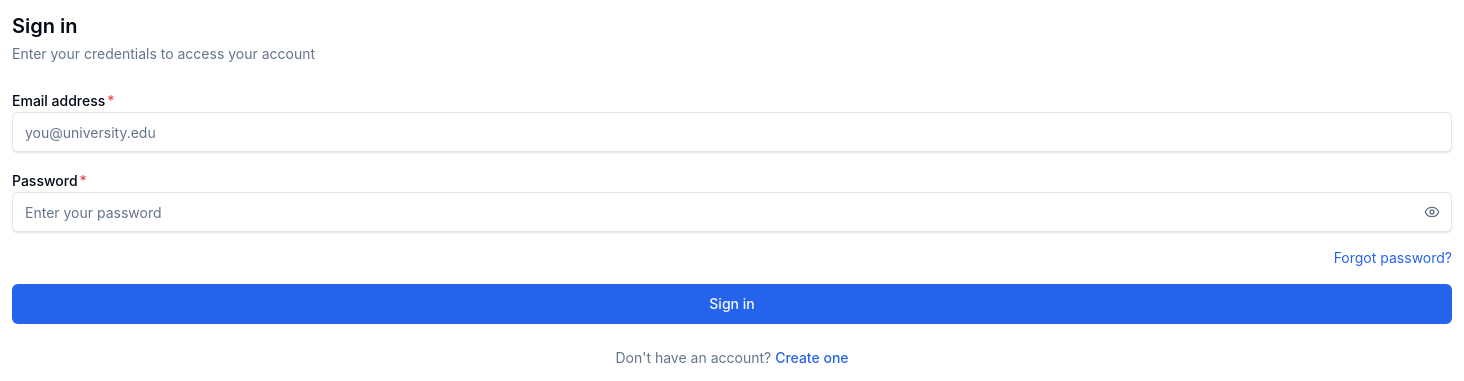
Scenario: LoginPage › disables the submit button and shows a spinner while the request is in flight
This screenshot has width=1464, height=381.
In the field labelled "Email address*": (732, 132) [12, 112, 1452, 152], type "student@university.edu"
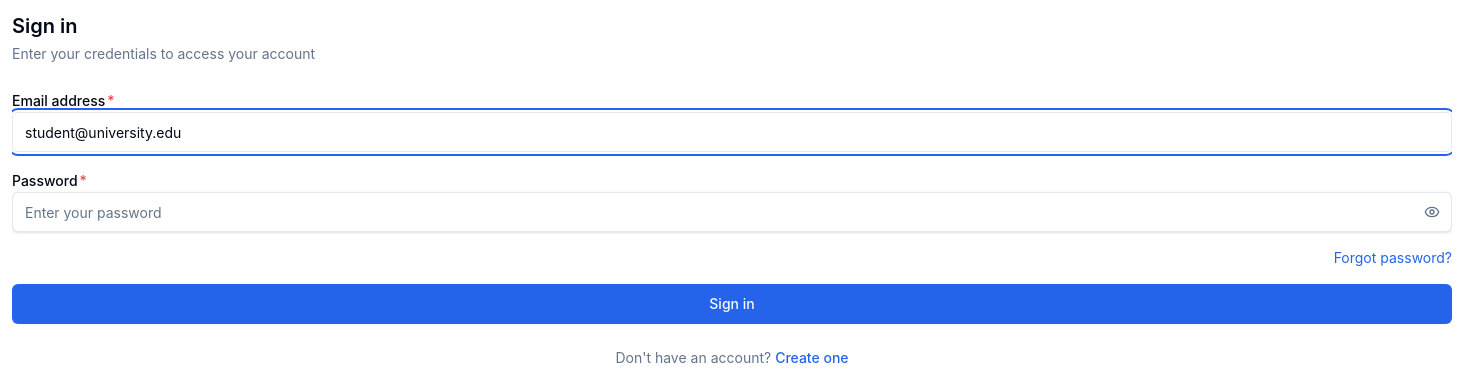
In the password field labelled "Password*": (732, 212) [12, 192, 1452, 232], type "secret123"
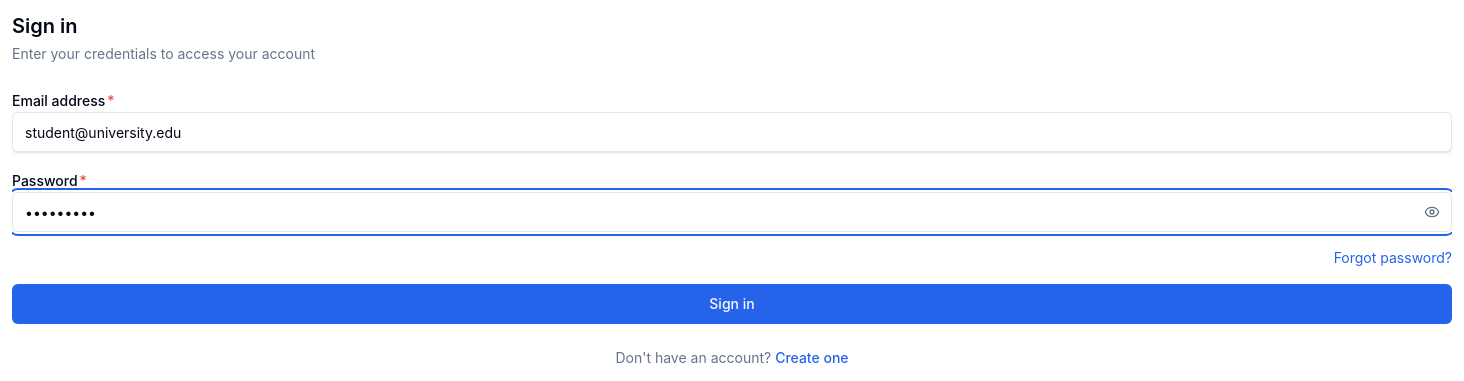
Click the button "Sign in": click(732, 304) [12, 284, 1452, 324]
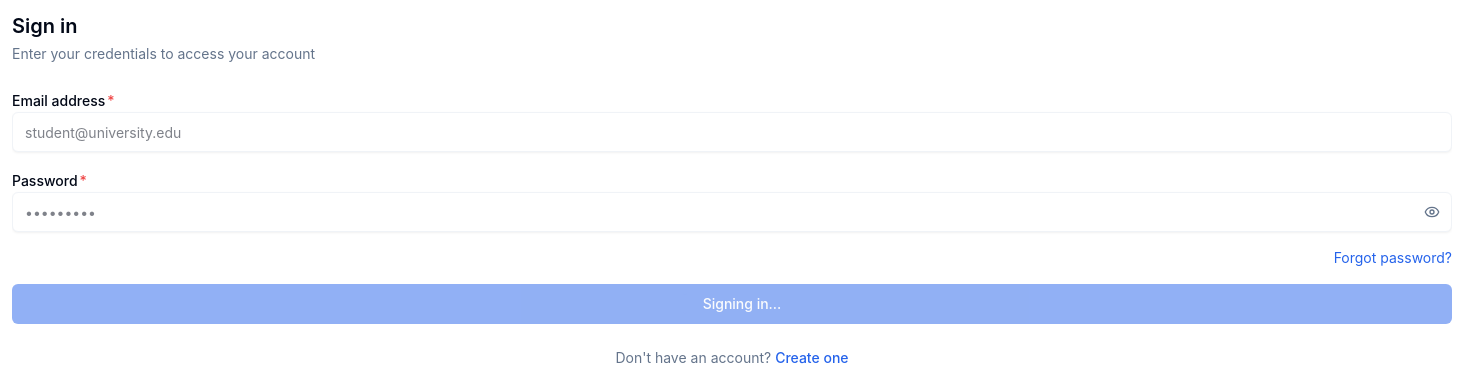
Expected: the button "Signing in…" is disabled, [12, 284, 1452, 324]
